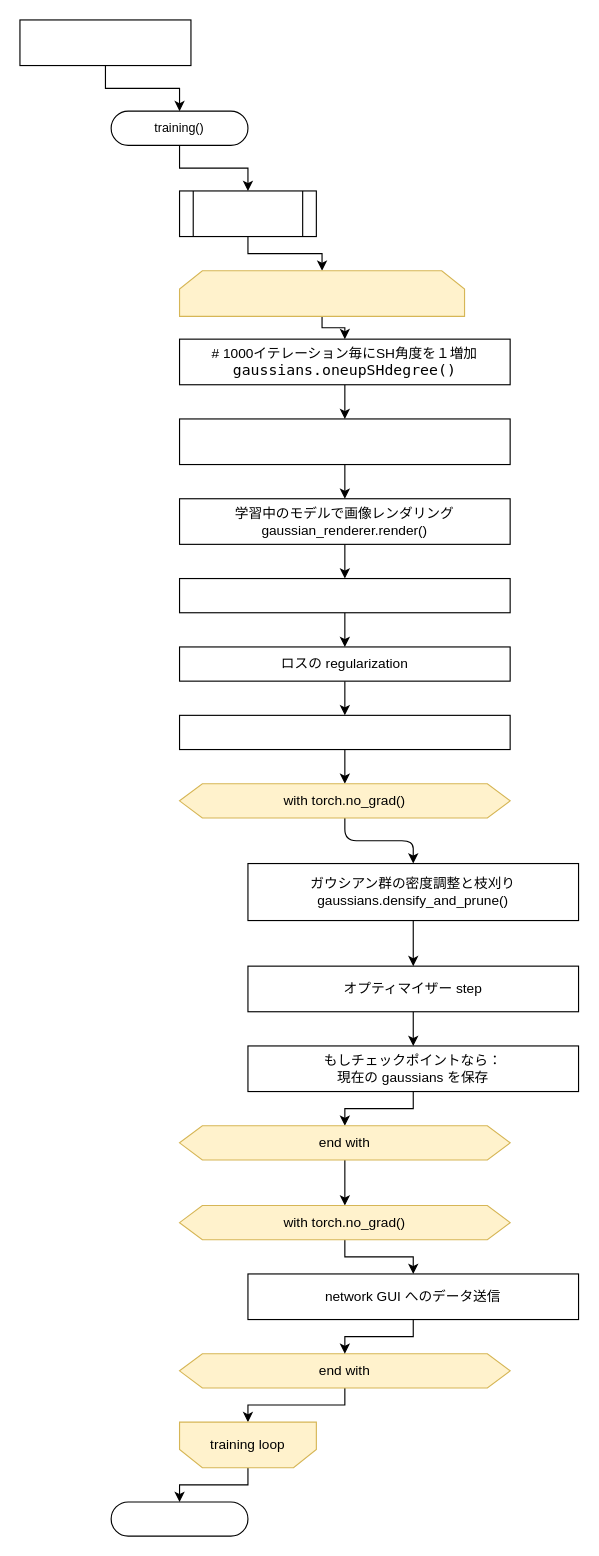
Some shapes in this 599 by 1556 pixel diagram are drawn without their labels. Each missing label, with the centre of its shape:
# ランダムにカメラ（視点）を一個選ぶ: point (344, 441)
(return): point (179, 1518)
GT画像に対するロス計算: point (344, 595)
initialize: point (247, 213)
train.py: point (105, 42)
training loop for iteration in range(...):: point (321, 293)
ロス backward(): point (344, 732)
